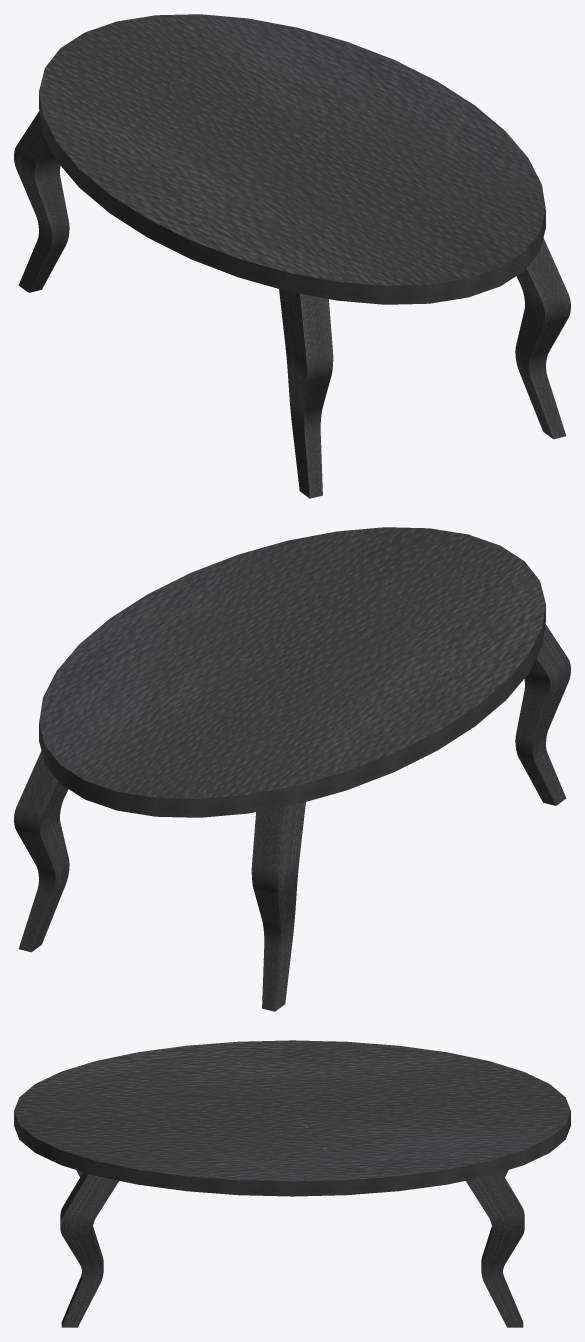
File: mesita.obj
3 views of the same model, one above another, from view 1: azimuth 30°, elevation 25°; view 2: azimuth 150°, elevation 25°; view 3: azimuth 270°, elevation 25° (orthographic). The views are drawn at different scales.
Visible parts, largest first — view 1: Plane.002; view 2: Plane.002; view 3: Plane.002.
Boxes of the visible parts, <box> form: Plane.002: <box>14,14,570,498</box>; Plane.002: <box>14,527,570,1011</box>; Plane.002: <box>14,1040,570,1327</box>.
Size of the model in its own units: 0.2268 by 0.125 by 0.378.
1 material, 1 textured.
